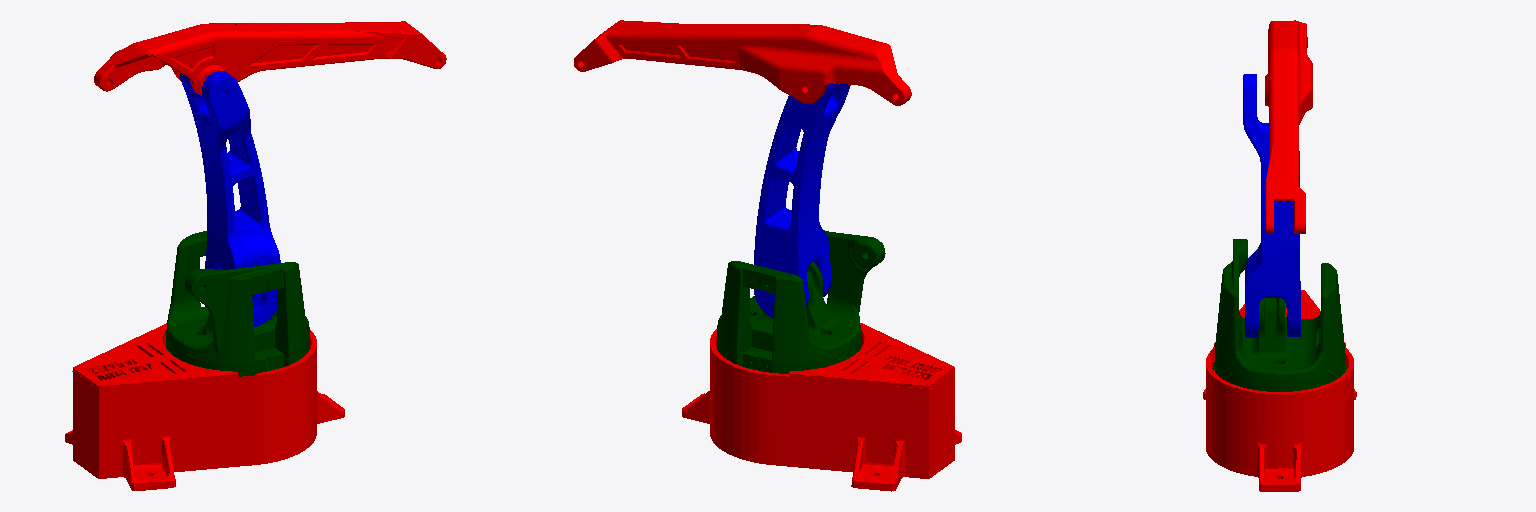
The robot description file, URDF, robot "ebamk2":
<?xml version="1.0"?>

<robot name="ebamk2">

<!-- BASE LINK -->
  <link
    name="base_link">
    <visual>
      <origin xyz="0 0 0" rpy="0 0 0" />
      <geometry>
        <mesh filename="package://ebamk2_description/meshes/base_link.STL" />
      </geometry>
      <material name="">
        <color rgba="1 0 0 1" />
      </material>
    </visual>
    <collision>
      <geometry>
        <cylinder length="0.0001" radius="0.0001"/>
      </geometry>
      <origin rpy="0 0 0" xyz="0 0 0"/>
    </collision>
  </link>

<!-- JOINT 1 HIP-->
  <joint name="joint_1" type="revolute">
    <origin xyz="0 0 0.05" rpy="0 0 0" />
    <parent link="base_link" />
    <child link="link_1" />
    <axis xyz="0 0 1" />
    <limit effort="0" velocity="0"
      lower="-0.7854" upper="0.7854"/>
  </joint>

<!-- LINK 1 HIP-->
  <link
    name="link_1">
    <visual>
      <origin
        xyz="0 -0.04 0" rpy="0 0 0" />
      <geometry>
        <mesh filename="package://ebamk2_description/meshes/link_1.STL" />
      </geometry>
      <material name="">
        <color rgba="0 0.275 0 1" />
      </material>
    </visual>
  </link>

<!-- JOINT 2 SHOULDER -->
  <joint name="joint_2" type="revolute">
    <origin xyz="0 -0.005 0.037" rpy="1.578 0 0" />
    <parent link="link_1" />
    <child link="link_2" />
    <axis xyz="0 0 1" />
    <limit effort="0" velocity="0"
      lower="-0.80" upper="0.35"/>
  </joint>

<!-- LINK 2 SHOULDER -->
  <link name="link_2">
    <visual>
      <origin xyz="0 0 0.0075" rpy="3.14159 0 0" />
      <geometry>
        <mesh filename="package://ebamk2_description/meshes/link_2.STL" />
      </geometry>
      <material name="">
        <color rgba="0 0 1 1" />
      </material>
    </visual>
  </link>

  <!-- VIRTUAL MIMIC JOINT 2-->
  <joint name="joint2v" type="revolute">
    <origin xyz="-0.021 0.135 -0.0105" rpy="1.570796325 0 0" />
    <parent link="link_2"/>
    <child link="link_2v"/>
    <axis xyz="0 1 0"/>
    <limit effort="30" velocity="1.0" lower="-3.14159" upper="3.14159" />
    <mimic joint="joint_2" multiplier="-1" offset="0" />
  </joint>

  <link name="link_2v">
    <visual>
      <geometry>
        <cylinder length="0.001" radius="0.0001"/>
      </geometry>
      <material name="">
        <color rgba="0 0 0 0" />
      </material>
      <origin rpy="0 0 0" xyz="0 0 0"/>
    </visual>
    <collision>
      <geometry>
        <cylinder length="0.0001" radius="0.0001"/>
      </geometry>
      <origin rpy="0 0 0" xyz="0 0 0"/>
    </collision>
  </link>

<!-- JOINT 3 ELBOW -->
  <joint name="joint_3" type="revolute">
    <origin xyz="0 0 0" rpy="0 0 0" />
    <parent link="link_2v" />
    <child link="link_3" />
    <axis xyz="0 1 0" />
    <limit effort="0" velocity="0"
      lower="-0.77" upper="0.45"/>
  </joint>

<!-- LINK 3 ELBOW -->
   <link name="link_3">
    <visual>
      <origin xyz="0 0.0335  0.002" rpy="1.570796325 0 0" />
      <geometry>
        <mesh filename="package://ebamk2_description/meshes/link_3.STL" />
      </geometry>
      <material name="">
        <color rgba="1 0 0 1" />
      </material>
    </visual>
  </link>

  <!-- JOINT 4 CLAW SUPPORT -->
  <joint name="joint_4" type="revolute">
    <origin xyz="0.1459 0.0185 0.0203" rpy="0 1.570796325 3.14159" />
    <parent link="link_3" />
    <child link="link_4" />
    <axis xyz="0 1 0" />
    <limit effort="0" velocity="0" lower="-3.14159" upper="3.14159"/>
    <mimic joint="joint_3" multiplier="1" offset="0" />
  </joint>

  <!-- LINK 4 CLAW SUPPORT -->
  <link name="link_4">
    <visual>
      <origin xyz="-0.006 0 -0.0394" rpy="0 0 0" />
      <geometry>
        <mesh filename="package://ebamk2_description/meshes/link_4.STL" scale="0.001 0.001 0.001" />
      </geometry>
      <material name="">
        <color rgba="0 0.275 0 1" />
      </material>  
    </visual>
  </link>

  <!-- JOINT 5 CLAW BASE -->
  <joint name="joint_5" type="fixed">
    <origin xyz="-0.0095 0.001 -0.033" rpy="-0 1.570796325 0" />
    <parent link="link_4" />
    <child link="claw_base" />
    <axis xyz="1 0 0" />
  </joint>

  <!-- LINK 4 CLAW BASE -->
  <link name="claw_base">
    <visual>
      <origin xyz="0 0 0" rpy="0 0 0" />
      <geometry>
        <mesh filename="package://ebamk2_description/meshes/link_5.STL" scale="0.001 0.001 0.001" />
      </geometry>
      <material name="">
        <color rgba="0 0 1 1" />
      </material>
    </visual>
  </link>

  <!-- FINGERS -->
  <joint name="joint_6" type="revolute">
    <origin xyz="0.0196 0.021 -0.004" rpy="0 0 0" />
    <parent link="claw_base"/>
    <child link="claw_l"/>
    <axis xyz="0 0 1" />
    <limit effort="0" lower="0" upper="0.65" velocity="1.0" />
  </joint>

  <joint name="joint_7" type="revolute">
    <origin xyz="0.0196 0.0040 -0.004" rpy="0 0 0" />
    <parent link="claw_base"/>
    <child link="claw_r"/>
    <axis xyz="0 0 -1" />
    <limit effort="0" lower="0" upper="0.65" velocity="1.0" />
    <mimic joint="joint_6" multiplier="1.0" offset="0" />
  </joint>

  <link name="claw_l">
    <visual>
      <origin xyz="0.0505 0.000 0" rpy="0 0 2.9" />
      <geometry>
        <mesh filename="package://ebamk2_description/meshes/claw_l.STL" scale="0.001 0.001 0.001" />
      </geometry>
    </visual>
  </link>

  <link name="claw_r">
    <visual>
      <origin xyz="0.0488 0.0102 0" rpy="0 0 3.14159" />
      <geometry>
        <mesh filename="package://ebamk2_description/meshes/claw_r.STL" scale="0.001 0.001 0.001" />
      </geometry>
    </visual>
  </link>

  <!-- TRANSMISSIONS -->
  <transmission name="trans_1">
    <type>transmission_interface/SimpleTransmission</type>
    <joint name="joint_1">
      <hardwareInterface>PositionJointInterface</hardwareInterface>
    </joint>
    <actuator name="servo1">
      <hardwareInterface>PositionJointInterface</hardwareInterface>
      <mechanicalReduction>1</mechanicalReduction>
    </actuator>
  </transmission>
  <transmission name="trans_2">
    <type>transmission_interface/SimpleTransmission</type>
    <joint name="joint_2">
      <hardwareInterface>PositionJointInterface</hardwareInterface>
    </joint>
    <actuator name="servo2">
      <hardwareInterface>PositionJointInterface</hardwareInterface>
      <mechanicalReduction>1</mechanicalReduction>
    </actuator>
  </transmission>
  <transmission name="trans_3">
    <type>transmission_interface/SimpleTransmission</type>
    <joint name="joint_3">
      <hardwareInterface>PositionJointInterface</hardwareInterface>
    </joint>
    <actuator name="servo3">
      <hardwareInterface>PositionJointInterface</hardwareInterface>
      <mechanicalReduction>1</mechanicalReduction>
    </actuator>
  </transmission>
  <transmission name="trans_6">
    <type>transmission_interface/SimpleTransmission</type>
    <joint name="joint_6">
      <hardwareInterface>PositionJointInterface</hardwareInterface>
    </joint>
    <actuator name="servo4">
      <hardwareInterface>PositionJointInterface</hardwareInterface>
      <mechanicalReduction>1</mechanicalReduction>
    </actuator>
  </transmission>

</robot>

--- What the picture shows (computed from the rendered views, not written in the file) ---
3 views of the same robot in one strip: view 1: azimuth 30°, elevation 25°; view 2: azimuth 150°, elevation 25°; view 3: azimuth 270°, elevation 25° (orthographic).
Robot: ebamk2 — 9 links, 8 joints (7 revolute, 1 fixed); root link base_link; default pose: every joint at zero.
Visible links, largest first — view 1: base_link, link_3, link_1, link_2; view 2: base_link, link_3, link_1, link_2; view 3: base_link, link_1, link_3, link_2.
Boxes of the visible links, x1,y1,x2,y2 form: base_link: (65,323,344,490); link_3: (94,21,446,95); link_1: (166,231,309,376); link_2: (180,71,280,326); base_link: (682,323,961,491); link_3: (574,20,911,105); link_1: (717,230,885,373); link_2: (754,83,850,317); base_link: (1203,290,1356,491); link_1: (1212,239,1346,391); link_3: (1265,20,1312,233); link_2: (1243,74,1300,337).
Size in the robot's own frame: 0.2291 by 0.0907 by 0.2519 metres.
Meshes: 8 distinct files referenced, 4 mesh visuals loaded (4 binary STL); not drawn: 4 (reference not matched to a file when rendering).
